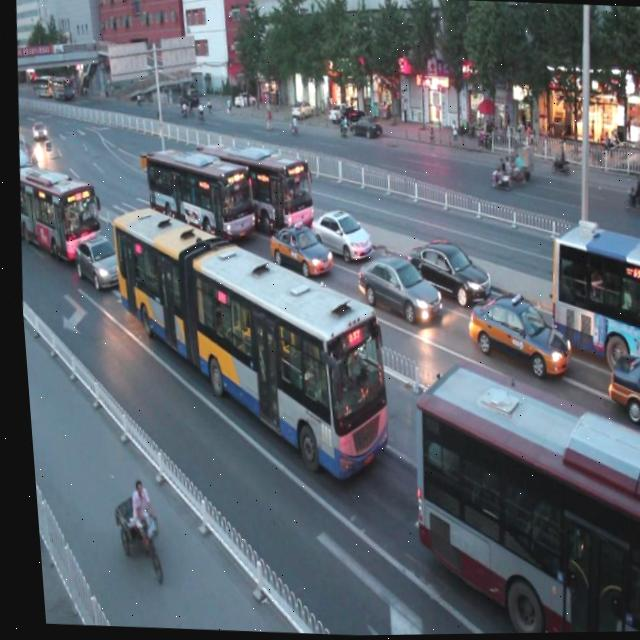car: (458, 290, 569, 388), (347, 249, 436, 330), (401, 236, 489, 309), (260, 217, 330, 283), (302, 202, 369, 268), (69, 231, 125, 294), (597, 342, 640, 421)
van: (93, 197, 396, 486), (393, 357, 640, 636), (541, 222, 640, 364), (136, 139, 255, 252), (193, 134, 315, 239), (12, 157, 100, 254)
